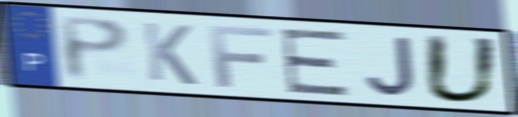E: (278, 27, 353, 98)
F: (206, 24, 276, 90)
J: (364, 35, 419, 98)
K: (140, 19, 200, 88)
P: (54, 14, 133, 83)
U: (422, 32, 502, 106)
